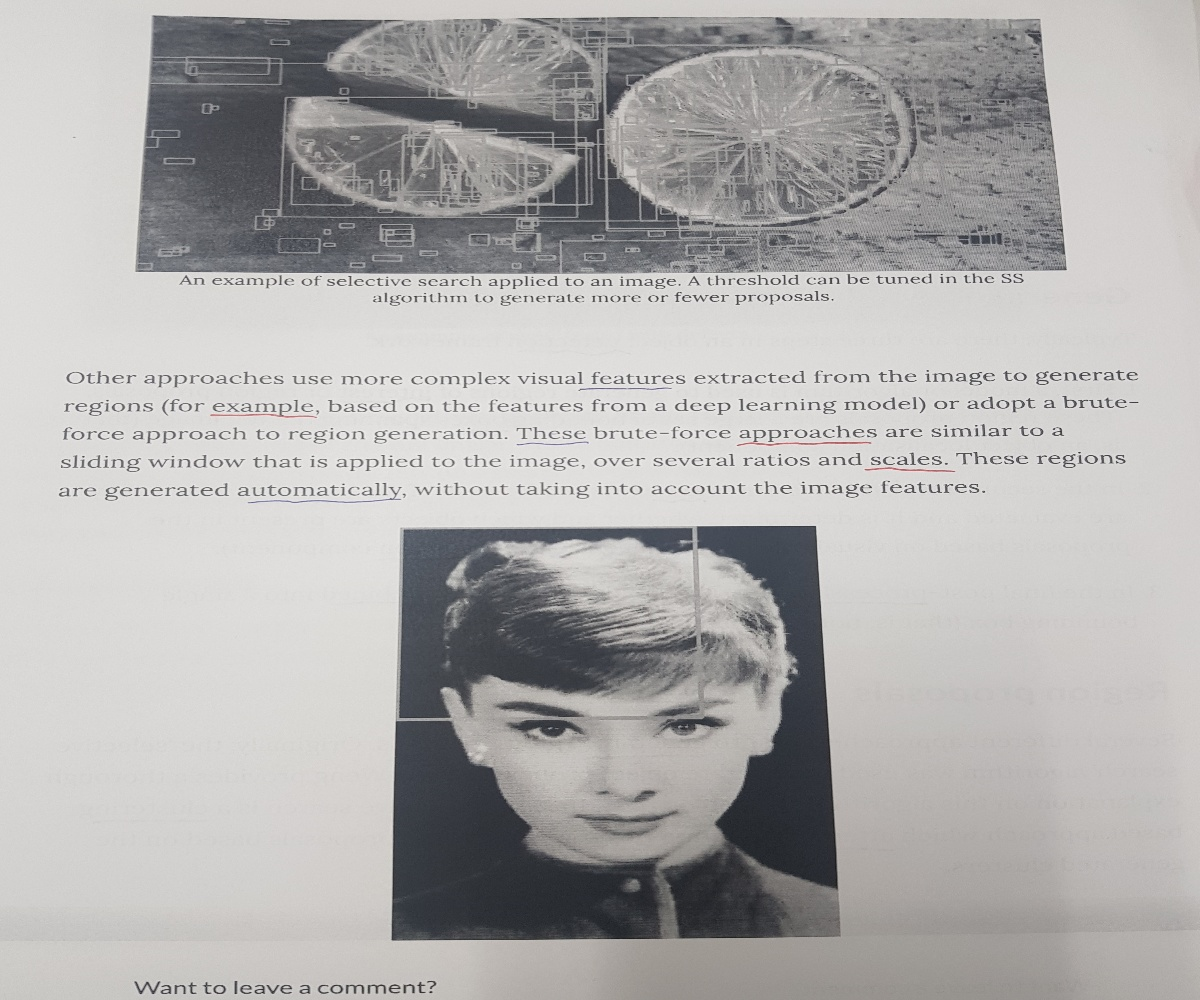underline: (243, 496, 405, 508), (733, 438, 874, 449), (206, 409, 328, 421), (575, 384, 671, 394), (861, 465, 957, 475), (515, 439, 593, 448)
